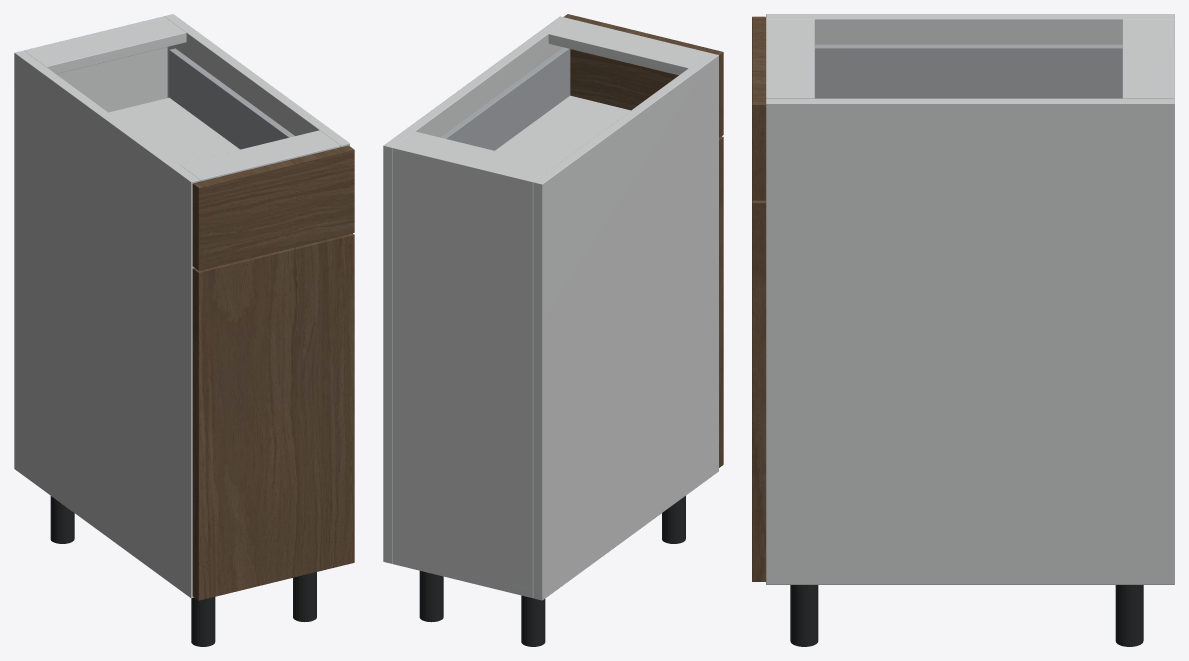
File: oppein-pb-mso-b12.glb
3 views of the same model, side by side, from view 1: azimuth 30°, elevation 25°; view 2: azimuth 150°, elevation 25°; view 3: azimuth 270°, elevation 25° (orthographic). The views are drawn at different scales.
Visible parts, largest first — view 1: Cabinet side, Door, Drawer front, Drawer side.001, Cabinet back, Cabinet side.001, Drawer floor, Top support rail, Top support rail.001, Adjustable foot.001, Adjustable foot.003, Adjustable foot; view 2: Cabinet side, Cabinet back, Cabinet side.001, Drawer side.001, Drawer front, Drawer floor, Top support rail.001, Top support rail, Door, Adjustable foot, Adjustable foot.002, Adjustable foot.001; view 3: Cabinet side.001, Drawer side, Cabinet side, Door, Top support rail.001, Top support rail, Drawer front, Adjustable foot.002, Adjustable foot.003, Cabinet back.
Boxes of the visible parts, box(x1,y1,x2,y2) form: Cabinet side: box(14, 50, 200, 598); Door: box(192, 233, 354, 600); Drawer front: box(192, 145, 354, 270); Drawer side.001: box(169, 48, 294, 149); Cabinet back: box(24, 16, 167, 112); Cabinet side.001: box(164, 14, 349, 146); Drawer floor: box(108, 97, 239, 164); Top support rail: box(25, 18, 186, 73); Top support rail.001: box(179, 130, 340, 181); Adjustable foot.001: box(191, 597, 215, 646); Adjustable foot.003: box(293, 572, 316, 621); Adjustable foot: box(50, 496, 74, 543); Cabinet side: box(533, 53, 718, 600); Cabinet back: box(393, 145, 535, 597); Cabinet side.001: box(383, 16, 568, 563); Drawer side.001: box(440, 47, 570, 150); Drawer front: box(564, 14, 723, 137); Drawer floor: box(495, 95, 630, 165); Top support rail.001: box(548, 18, 709, 75); Top support rail: box(396, 131, 554, 179); Door: box(719, 136, 723, 467); Adjustable foot: box(521, 595, 545, 646); Adjustable foot.002: box(419, 571, 443, 622); Adjustable foot.001: box(662, 496, 685, 543); Cabinet side.001: box(766, 98, 1174, 584); Drawer side: box(815, 44, 1122, 98); Cabinet side: box(766, 14, 1174, 44); Door: box(752, 200, 765, 581); Top support rail.001: box(766, 19, 814, 98); Top support rail: box(1122, 19, 1166, 98); Drawer front: box(752, 16, 765, 200); Adjustable foot.002: box(1115, 585, 1143, 646); Adjustable foot.003: box(790, 585, 818, 646); Cabinet back: box(1167, 19, 1174, 98).
Bounding box in the file's own units: 0.3048 × 0.8763 × 0.6064.
Materials: 4 (1 with a texture image).
